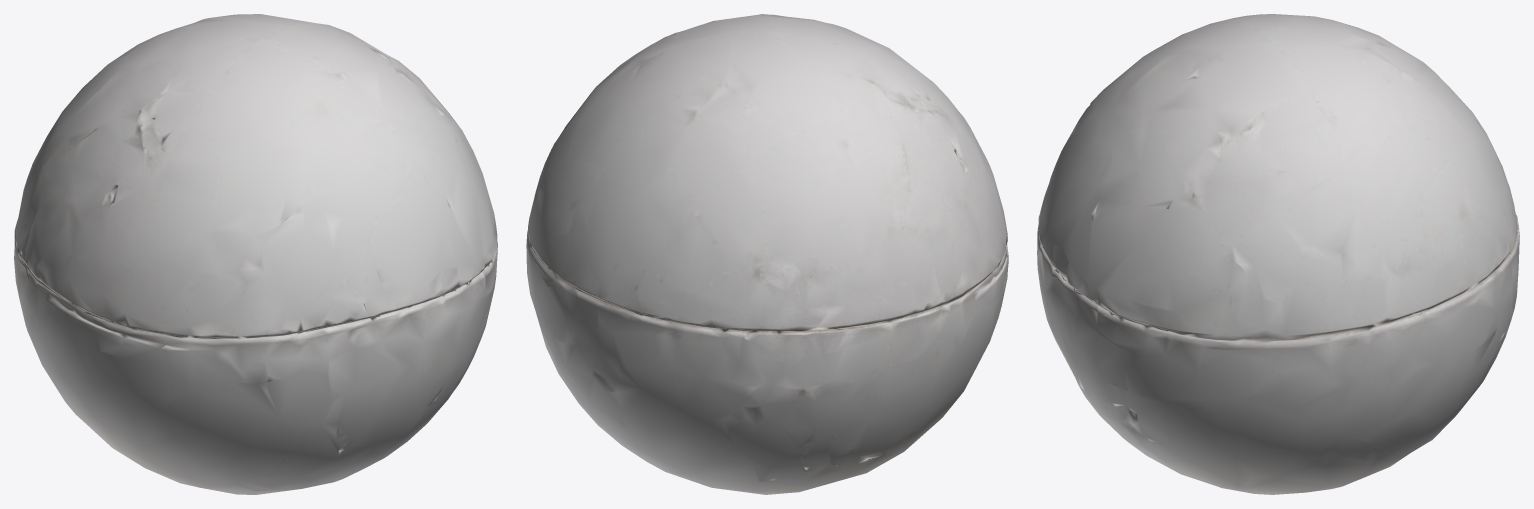
The model's file is hazard-pong.glb.
3 views of the same model, side by side, from view 1: azimuth 30°, elevation 25°; view 2: azimuth 150°, elevation 25°; view 3: azimuth 270°, elevation 25° (orthographic).
Bounding box in the file's own units: 1.9 × 1.9 × 1.9.
Materials: 1 (1 with a texture image).
